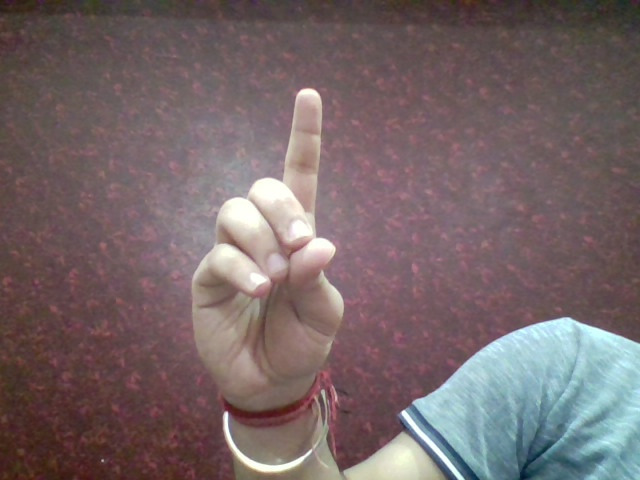d: (181, 83, 359, 402)
